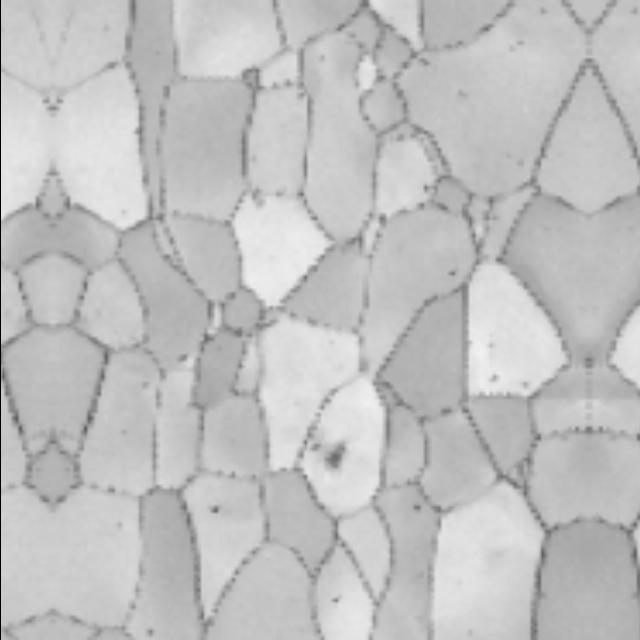good_void: (327, 441, 352, 470), (487, 373, 503, 385), (310, 442, 324, 454), (331, 596, 345, 608), (209, 505, 223, 516), (422, 184, 432, 196), (447, 268, 458, 278)
